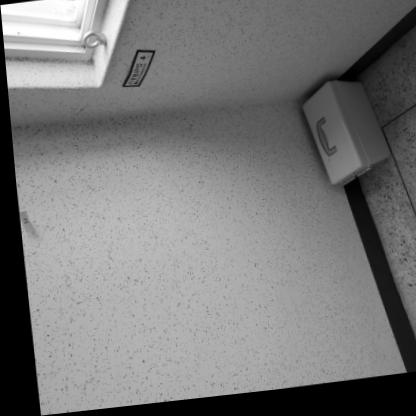DDL: (296, 81, 390, 194)
